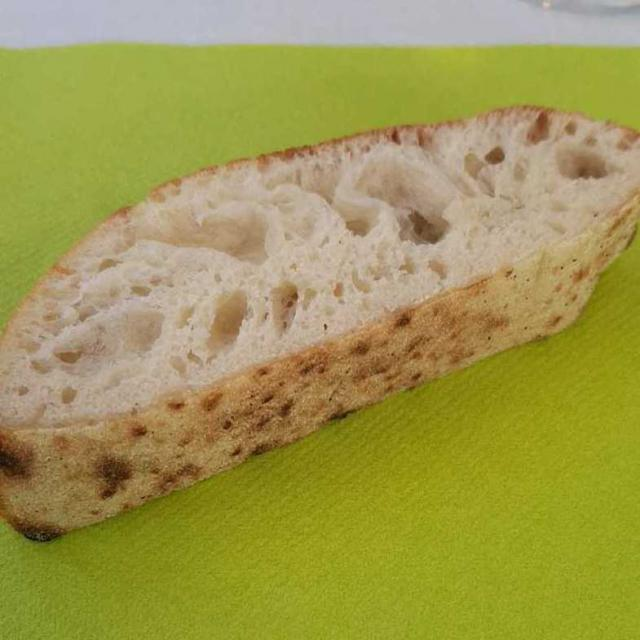bread-white: (17, 108, 618, 536)
